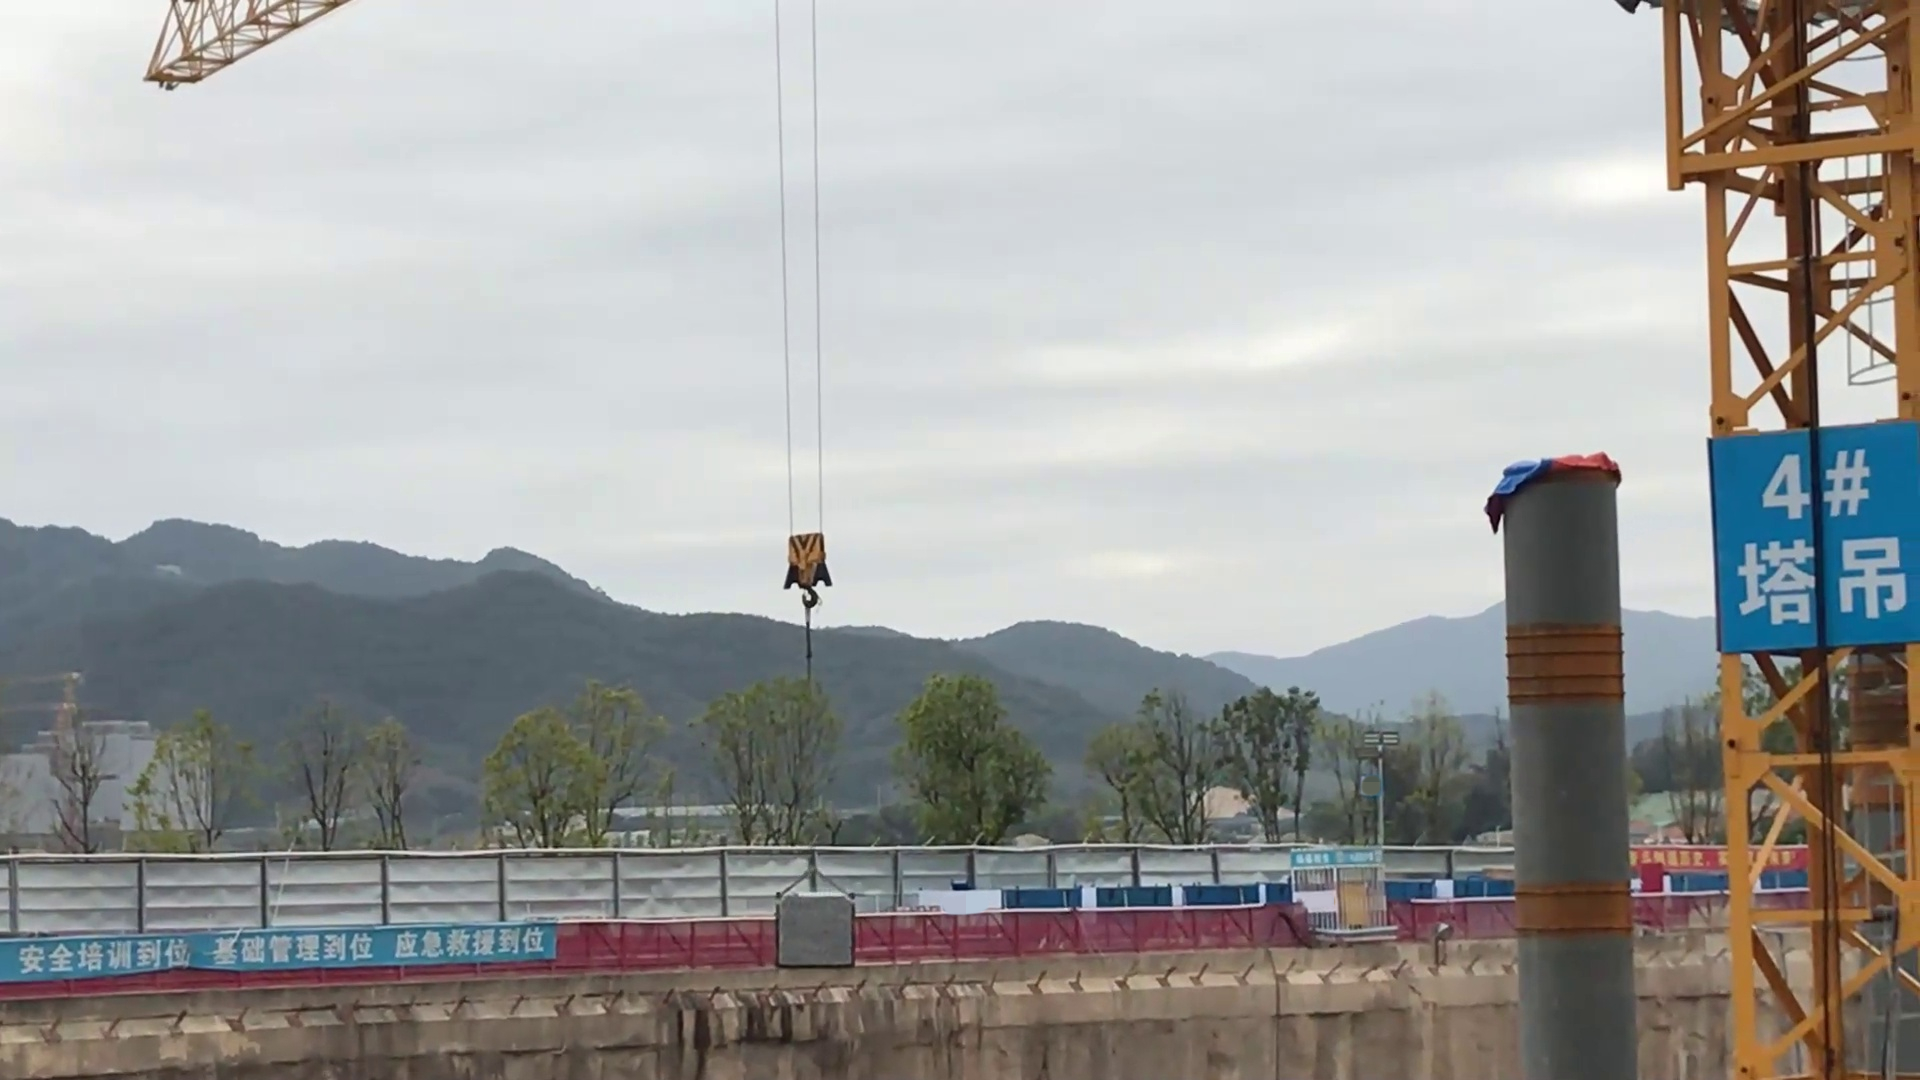fence: (3, 889, 1774, 1001)
hook: (774, 527, 839, 621)
scaffold: (777, 890, 862, 967)
slogan: (9, 924, 556, 964), (1633, 847, 1800, 872)
